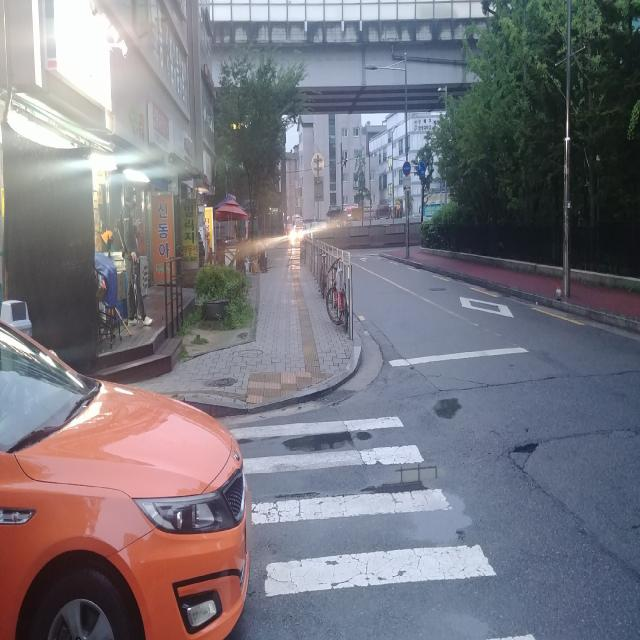횡단보도: (227, 412, 539, 640)
